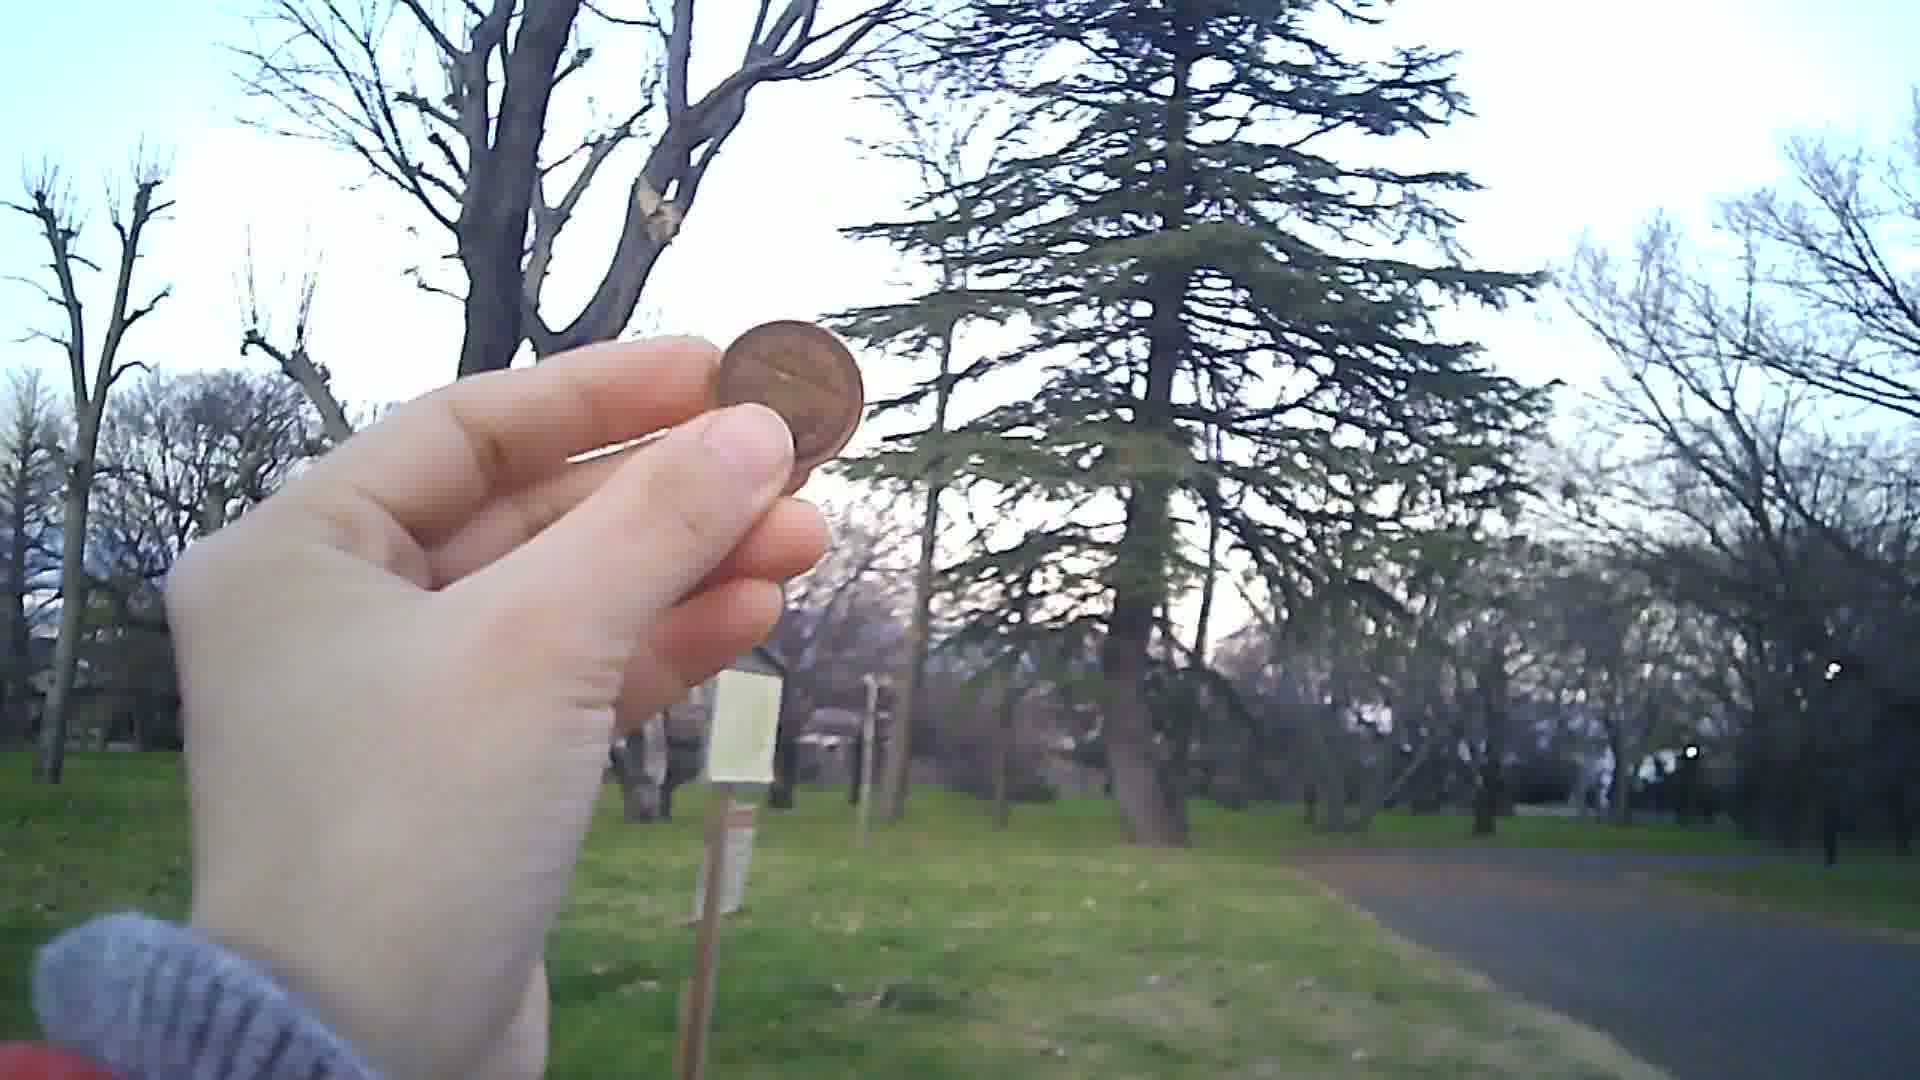10 Yen: (705, 315, 868, 469)
